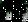person: (21, 5, 28, 22), (6, 14, 12, 20)
